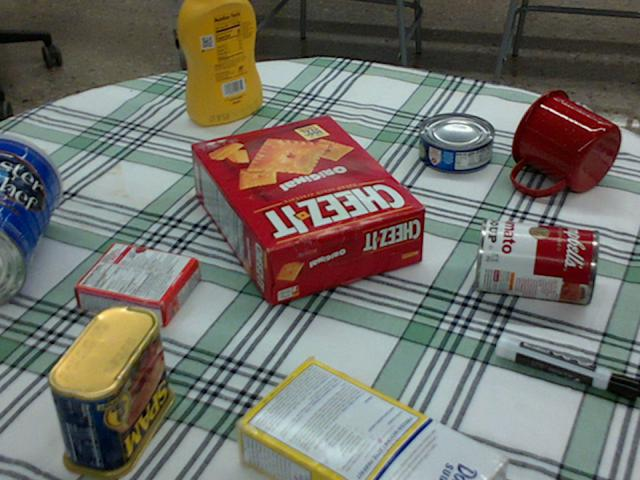cracker_box: (190, 113, 421, 303)
gelatin_box: (75, 240, 199, 327)
large_marker: (496, 334, 639, 403)
master_chef_can: (0, 134, 59, 304)
mug: (510, 89, 619, 196)
mustard_bottle: (177, 0, 261, 125)
potted_meat_can: (47, 304, 172, 477)
sugar_box: (229, 361, 506, 479)
tomato_soup_can: (473, 217, 598, 304)
tuna_fish_can: (419, 113, 494, 172)
